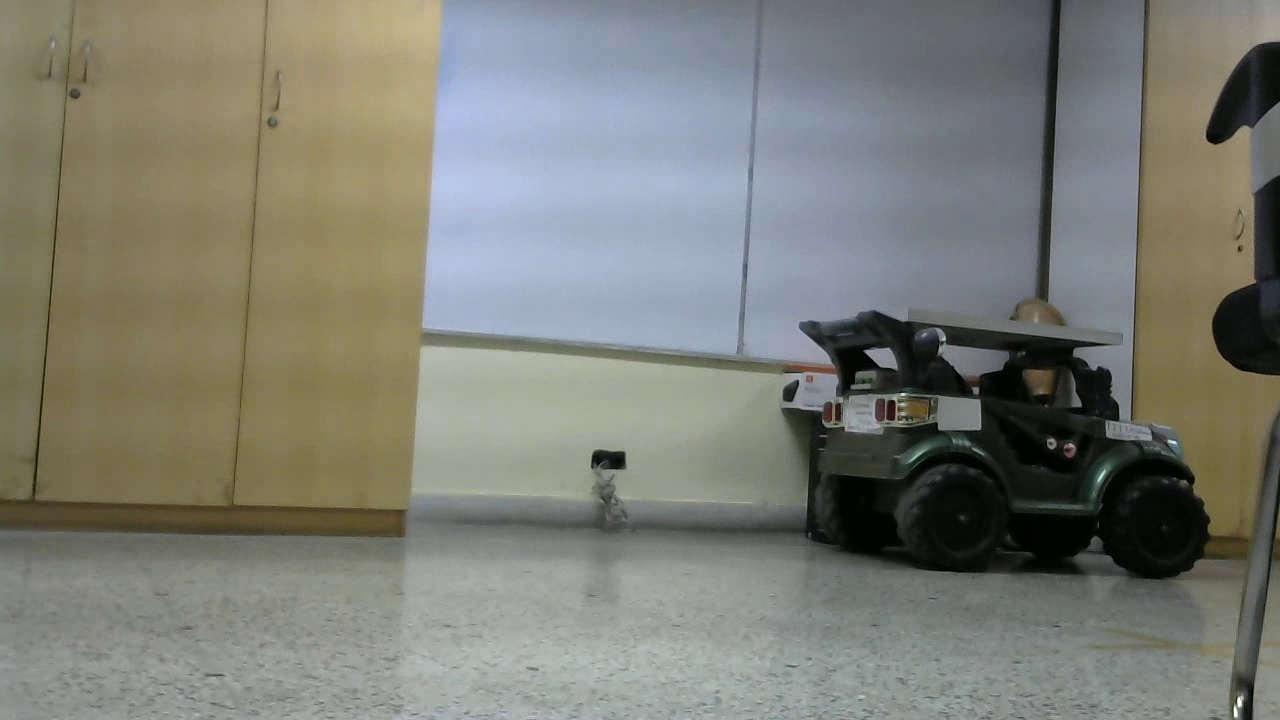chair: (663, 1, 985, 596)
